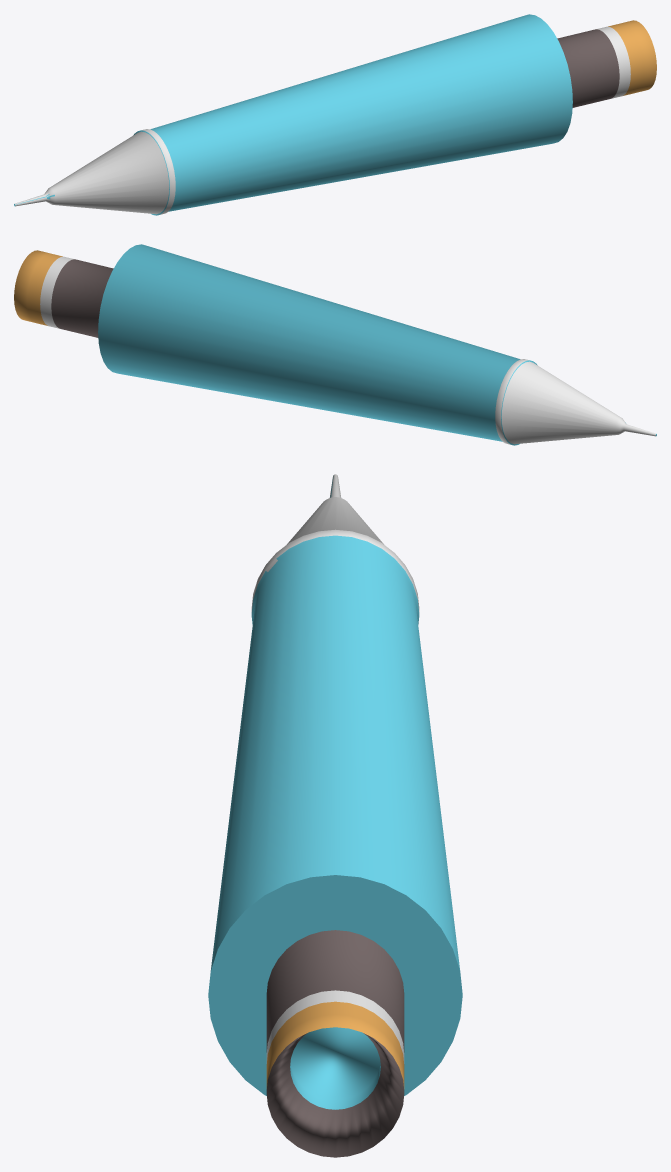
File: pencil2.glb
3 views of the same model, one above another, from view 1: azimuth 30°, elevation 25°; view 2: azimuth 150°, elevation 25°; view 3: azimuth 270°, elevation 25° (orthographic). The views are drawn at different scales.
Parts seen in each view (by area): view 1: Cylinder.004; view 2: Cylinder.004; view 3: Cylinder.004.
Part boxes in pixels (bbox=[...]): Cylinder.004: bbox=[14, 14, 656, 215]; Cylinder.004: bbox=[14, 244, 656, 445]; Cylinder.004: bbox=[208, 474, 462, 1157].
Bounding box in the file's own units: 6.96 × 1.28 × 1.23.
